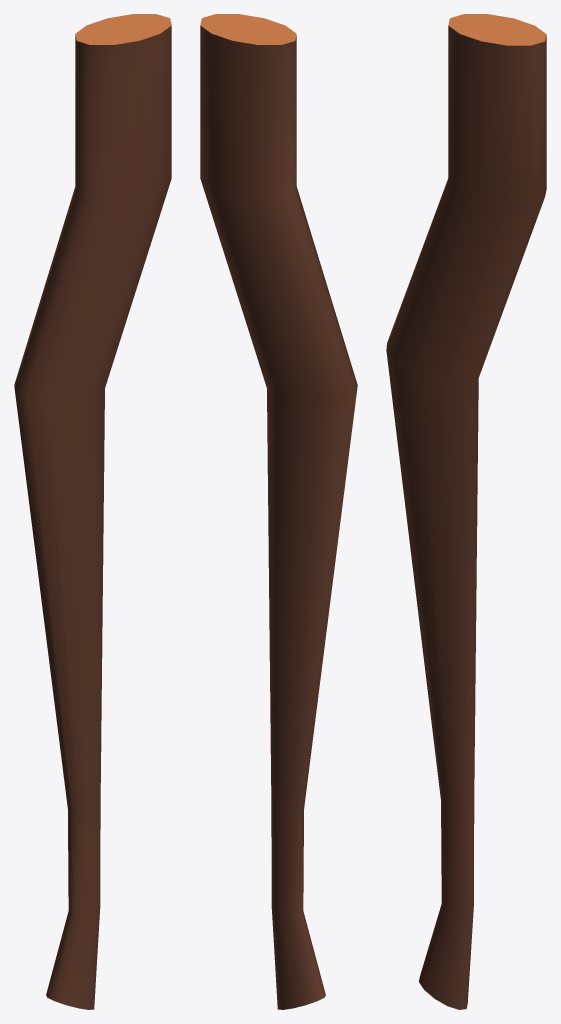
File: LumberjackAxeHandleExtended.FBX
3 renders of one model, left to right at view 1: azimuth 30°, elevation 25°; view 2: azimuth 150°, elevation 25°; view 3: azimuth 330°, elevation 25°, orthographic.
Parts seen in each view (by area): view 1: LumberjackAxeHandleExtended; view 2: LumberjackAxeHandleExtended; view 3: LumberjackAxeHandleExtended.
Boxes of the visible parts, <box> form: LumberjackAxeHandleExtended: <box>14,14,171,1009</box>; LumberjackAxeHandleExtended: <box>200,14,357,1009</box>; LumberjackAxeHandleExtended: <box>386,14,546,1009</box>.
Bounding box in the file's own units: 17.37 × 104 × 6.02.
